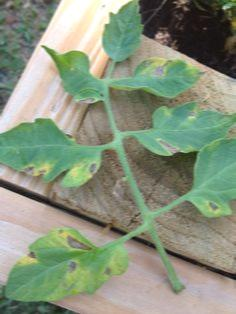Tomato Early blight leaf: (9, 227, 127, 302), (6, 122, 105, 188), (131, 101, 236, 157), (37, 36, 105, 108), (115, 59, 210, 98)
Tomato leaf: (98, 1, 145, 62)
